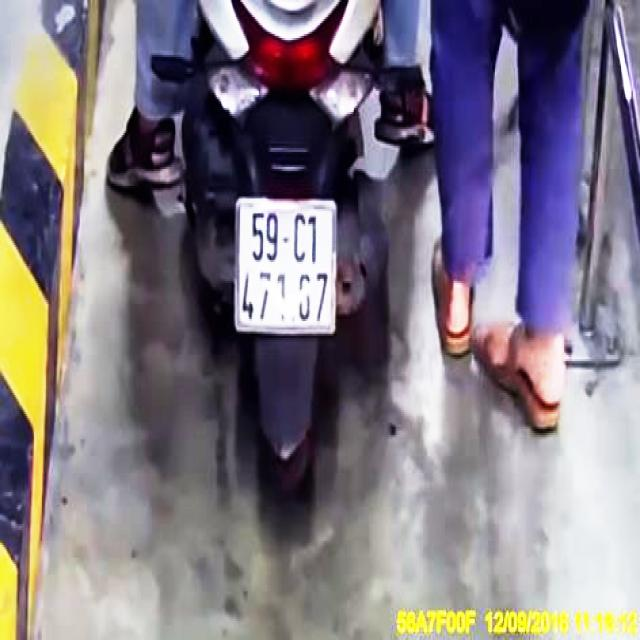license_plate: (238, 202, 335, 332)
